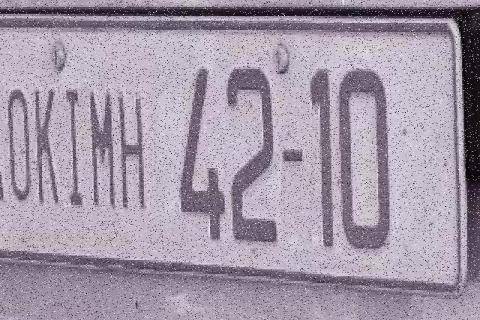LicensePlate: (160, 3, 476, 306)
